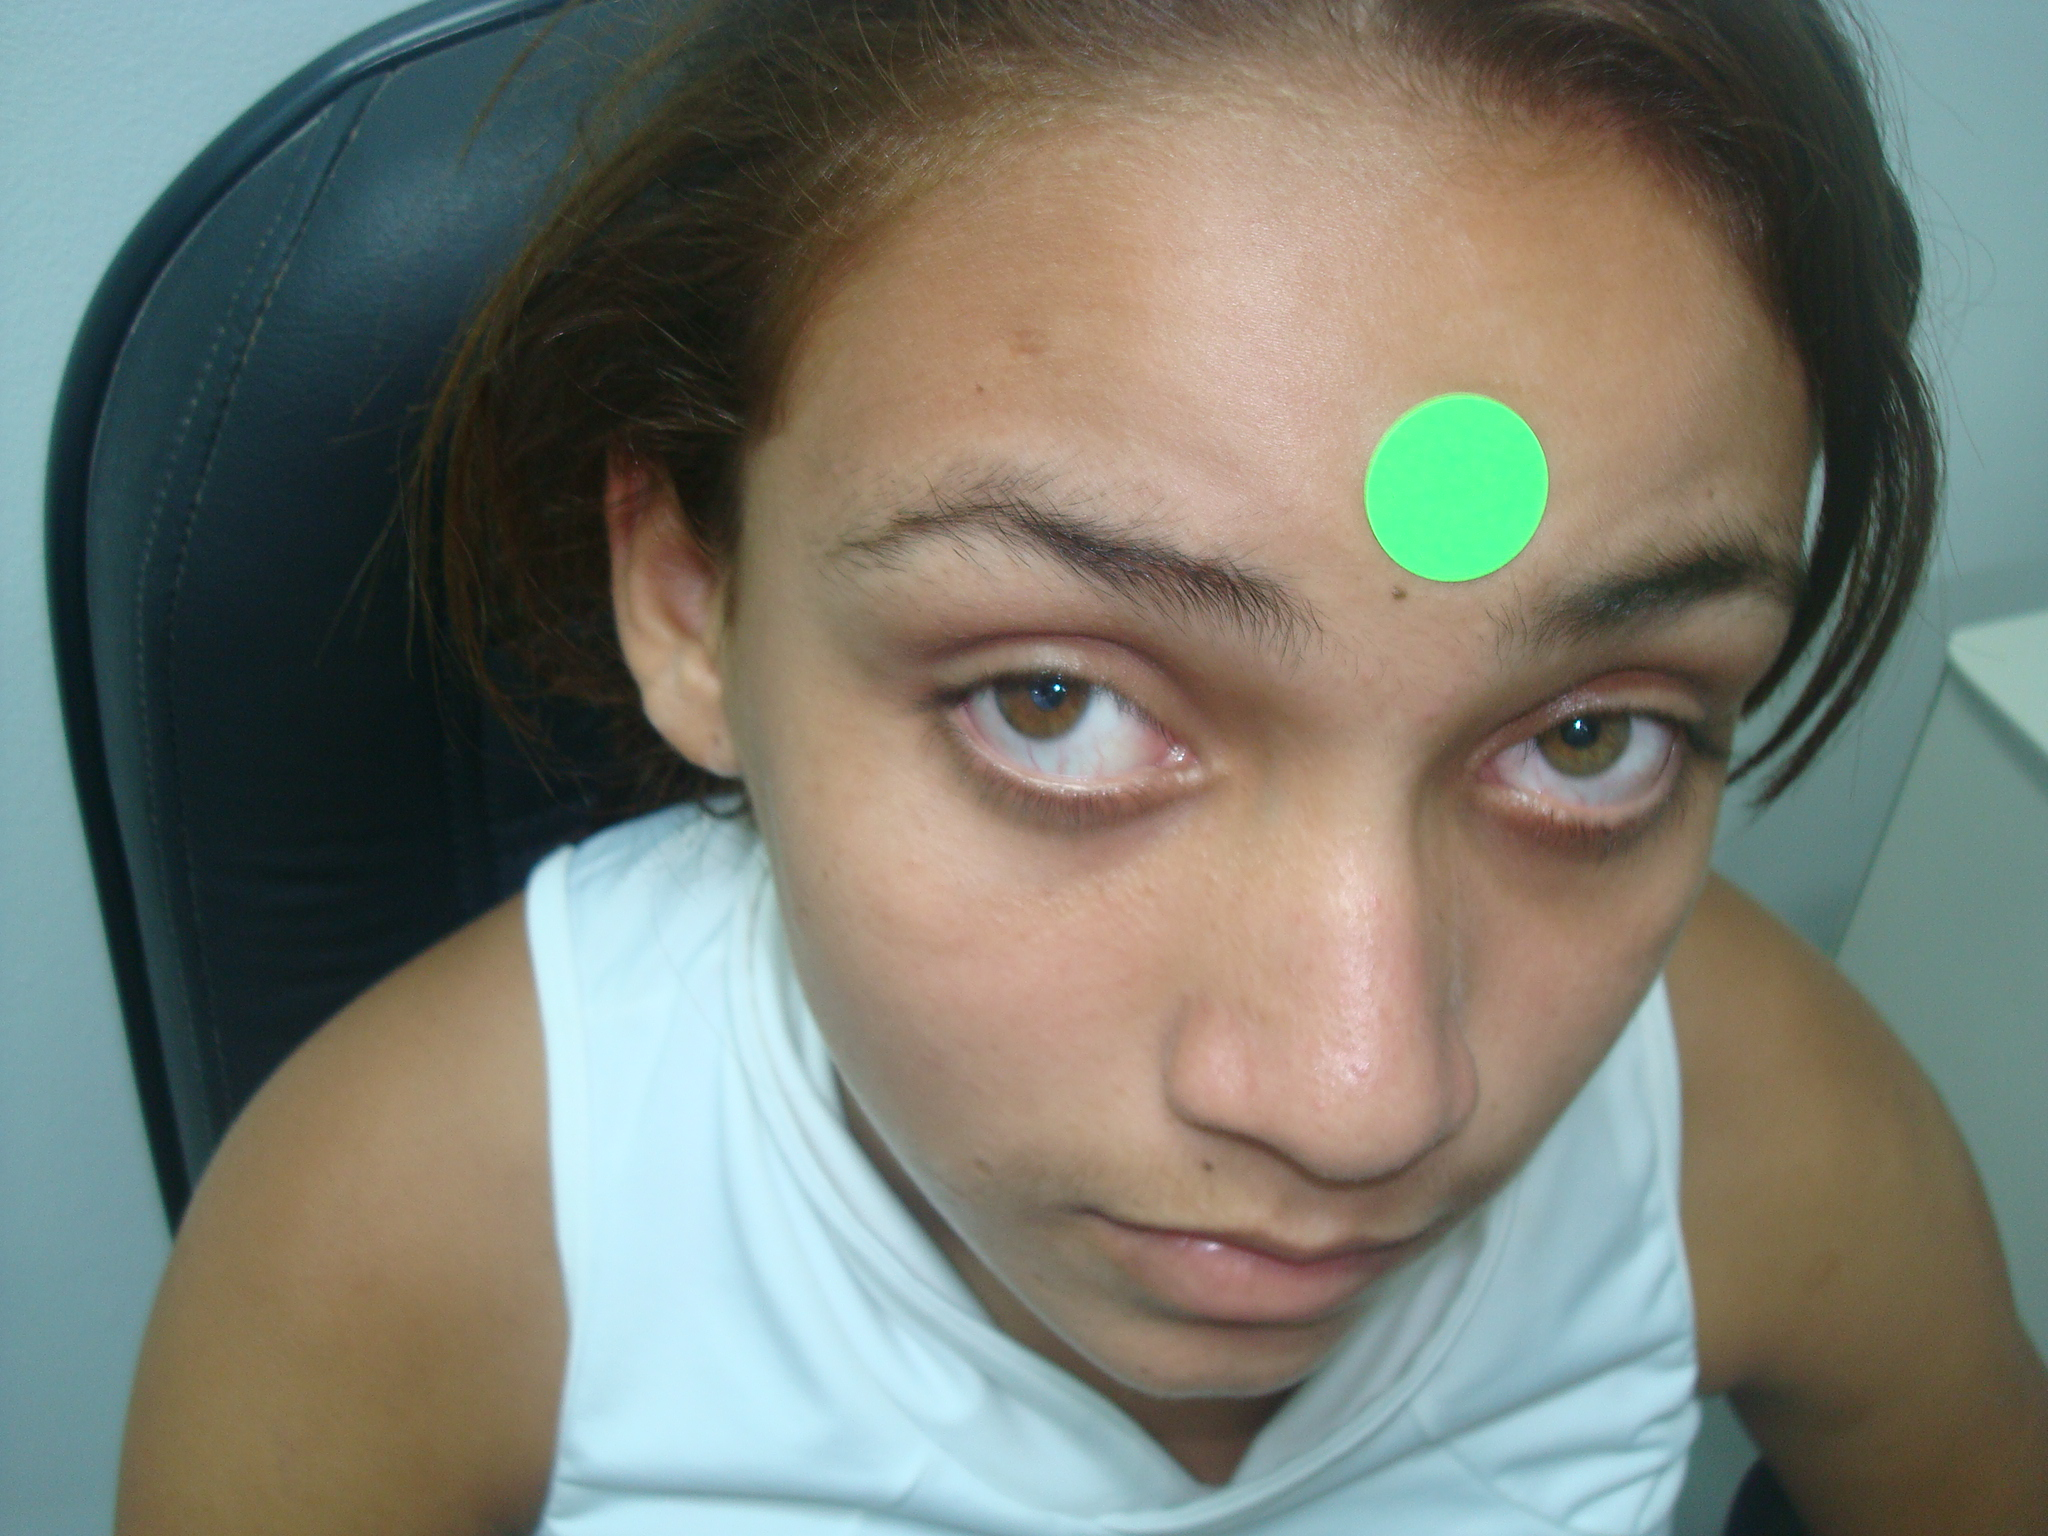flash: (1050, 681, 1064, 694), (1571, 718, 1585, 731)
limbo: (1003, 647, 1095, 739), (1532, 684, 1622, 773)
